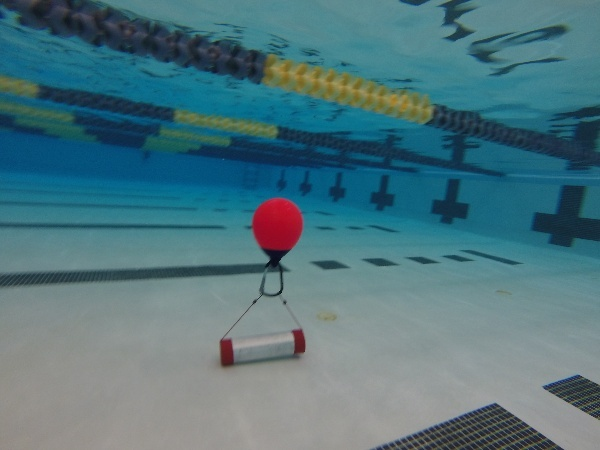buoy_red: (249, 194, 307, 272)
